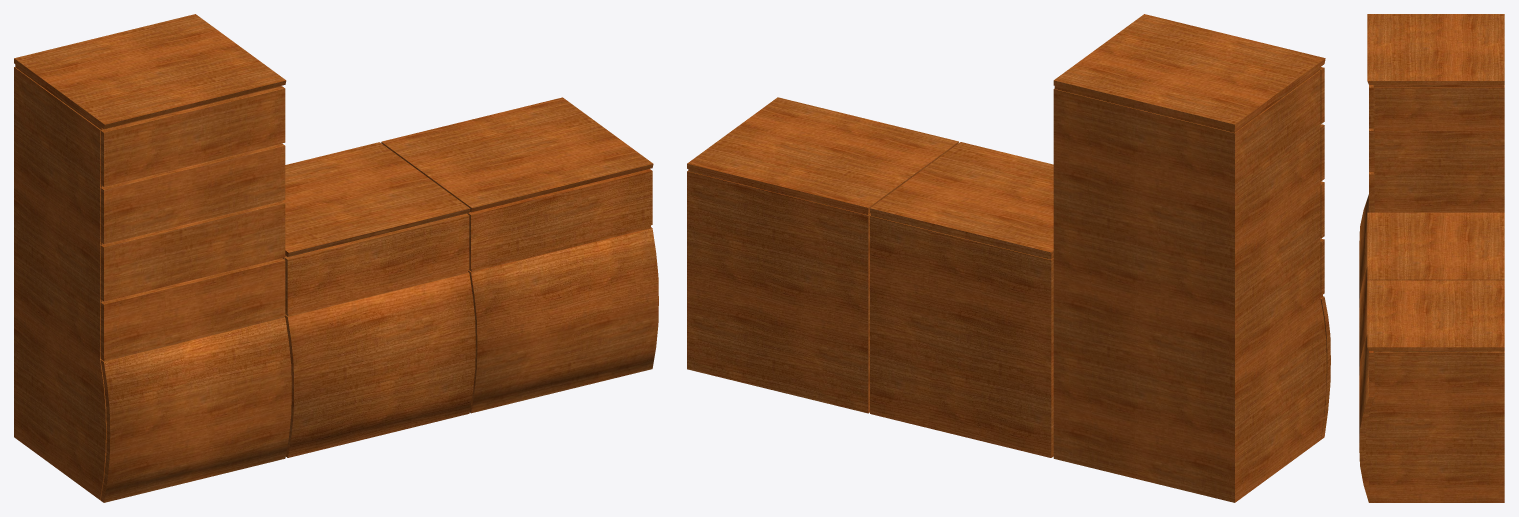
File: box_room.obj
3 renders of one model, left to right at view 1: azimuth 30°, elevation 25°; view 2: azimuth 150°, elevation 25°; view 3: azimuth 270°, elevation 25°, orthographic. The views are drawn at different scales.
Parts seen in each view (by area): view 1: highbox_Cube.001, box2_Cube.005, box1_Cube.004; view 2: highbox_Cube.001, box2_Cube.005, box1_Cube.004; view 3: box2_Cube.005, highbox_Cube.001, box1_Cube.004.
Part boxes in pixels (left/top/right/bottom): highbox_Cube.001: left=14, top=14, right=291, bottom=502; box2_Cube.005: left=381, top=97, right=658, bottom=413; box1_Cube.004: left=282, top=142, right=475, bottom=457; highbox_Cube.001: left=1053, top=14, right=1330, bottom=502; box2_Cube.005: left=687, top=97, right=958, bottom=413; box1_Cube.004: left=870, top=142, right=1053, bottom=457; box2_Cube.005: left=1359, top=280, right=1504, bottom=502; highbox_Cube.001: left=1359, top=14, right=1504, bottom=307; box1_Cube.004: left=1359, top=212, right=1504, bottom=375.
Size of the model in its own units: 158 by 104 by 47.88.
1 material, 1 textured.
